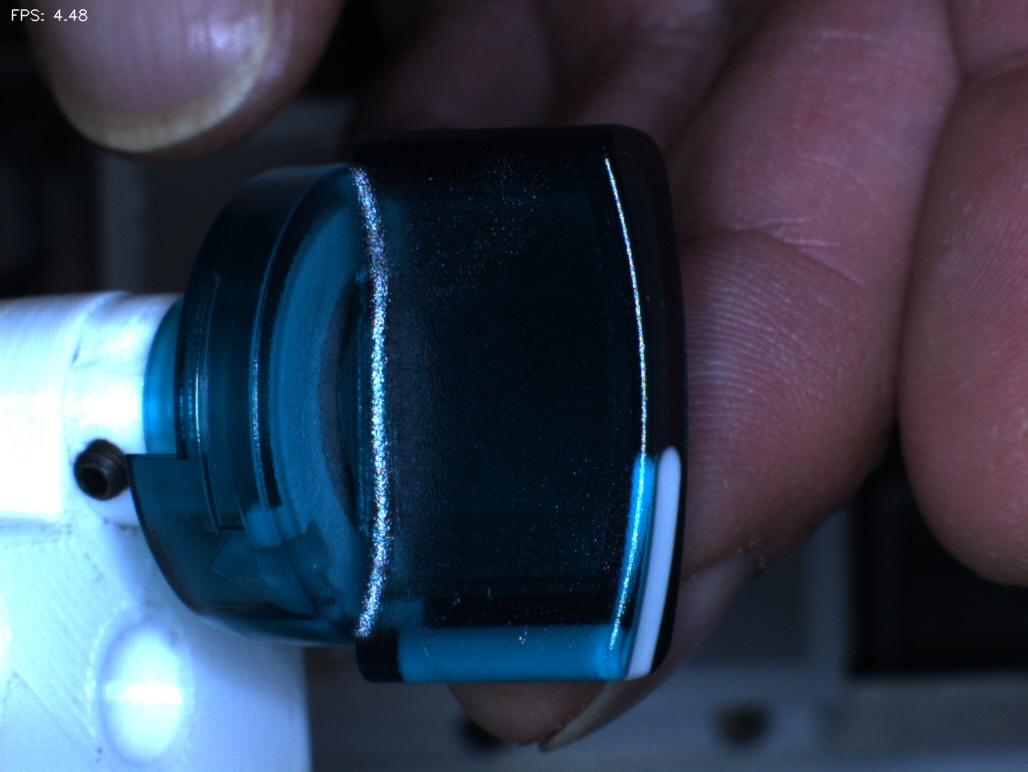Givrage: (485, 574, 542, 655)
